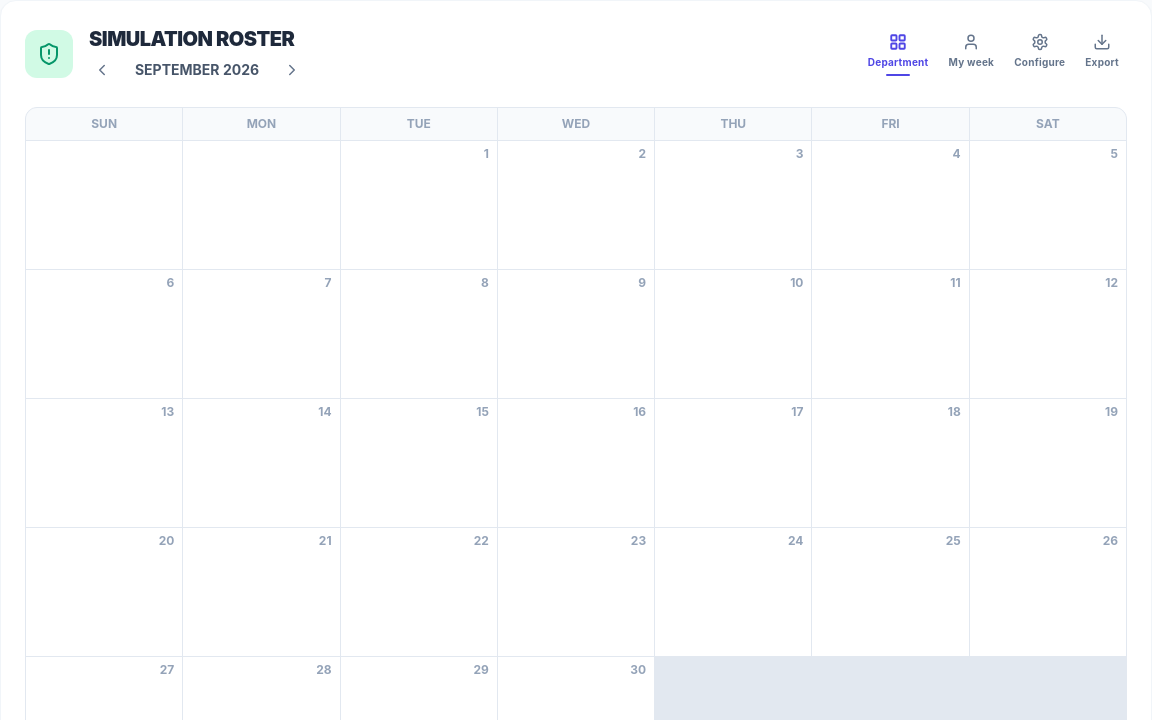
it: the nine controls are on screen in the sandbox wizard › states the availability-window union rule, which is the reading nobody expects
Click the button "Configure" at x=1040, y=54, box [1006,26,1073,82]
(page scrolled)
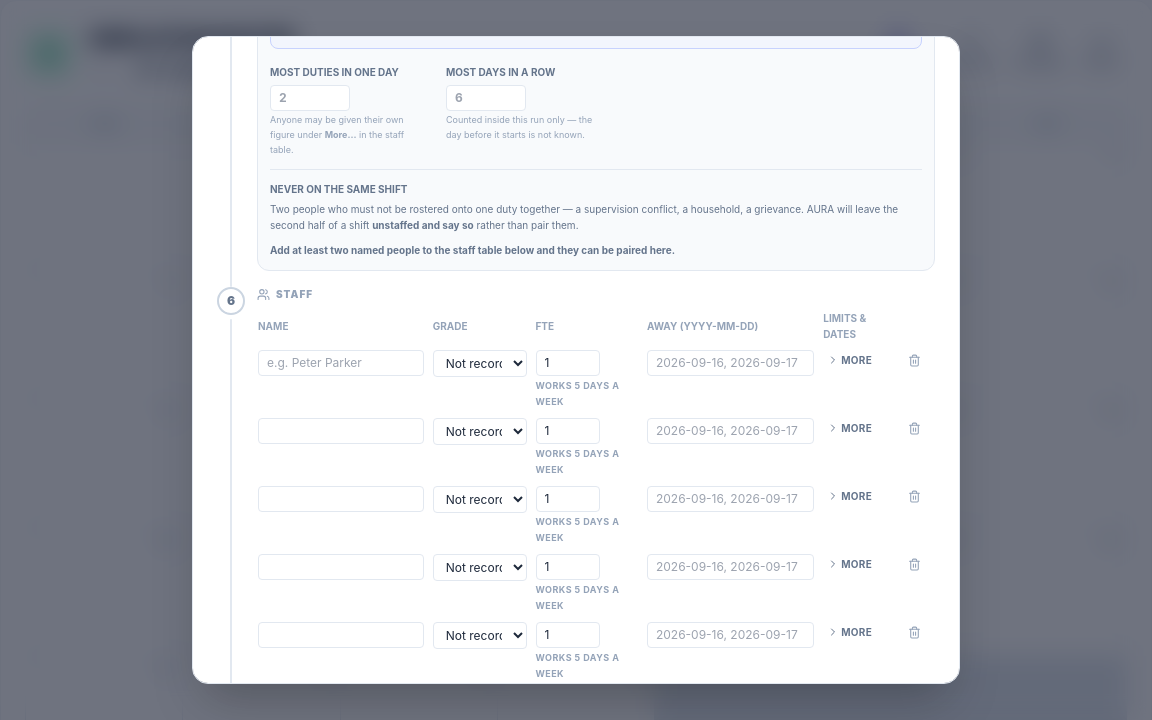
Click the button with aria-label "Staff row 1: limits and availability" at x=850, y=360, box [823,350,876,370]
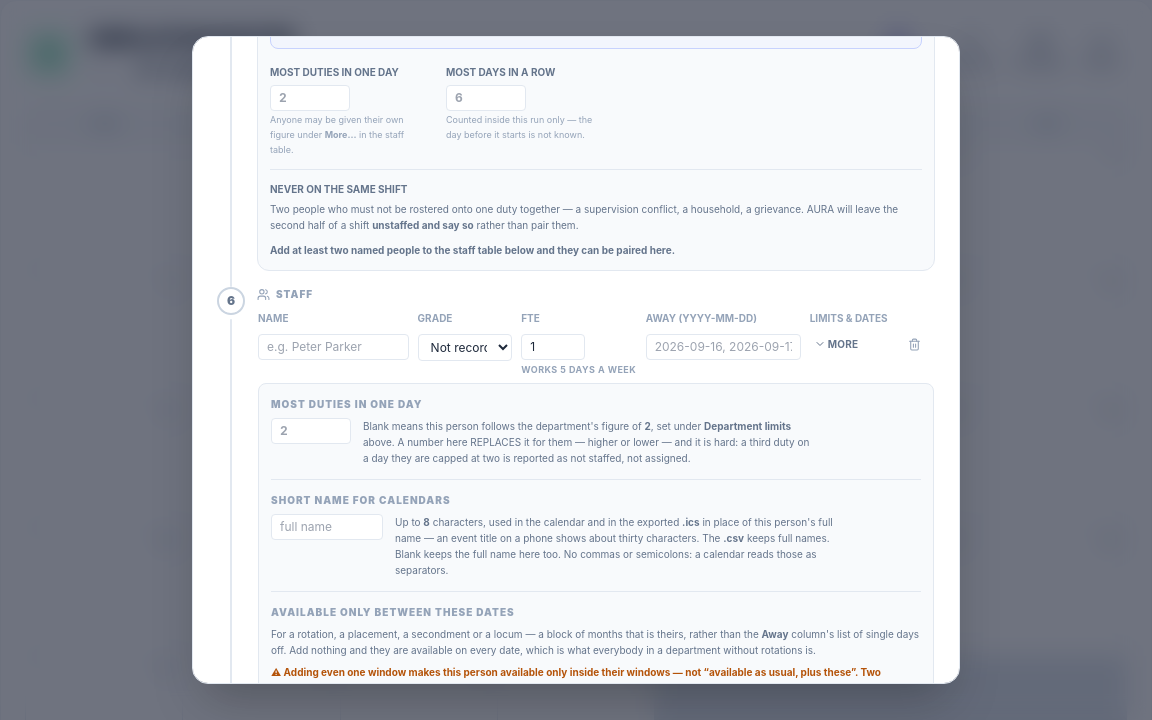
Check: the text "not .available as usual, plus these" is shown, box [271,666,881,684]
